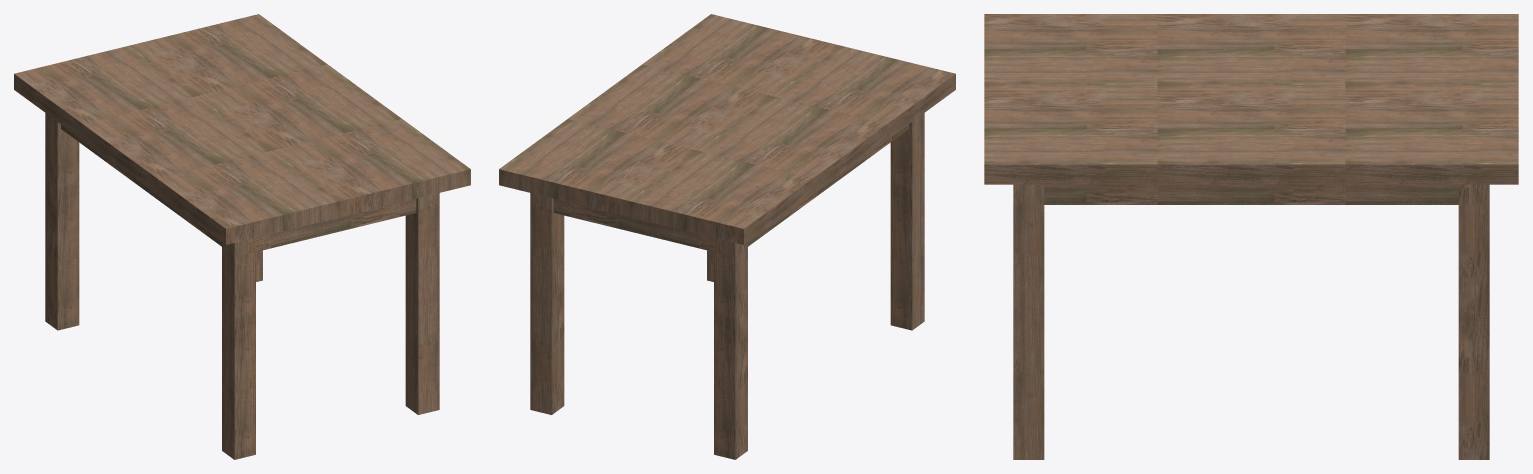
Rendered from Table3.fbx.
3 views of the same model, side by side, from view 1: azimuth 30°, elevation 25°; view 2: azimuth 150°, elevation 25°; view 3: azimuth 270°, elevation 25° (orthographic). The views are drawn at different scales.
Parts seen in each view (by area): view 1: Empty_Mesh; view 2: Empty_Mesh; view 3: Empty_Mesh.
Part boxes in pixels (x1,y1,x2,y2): Empty_Mesh: (14,14,470,459); Empty_Mesh: (499,14,955,459); Empty_Mesh: (984,14,1518,459).
Bounding box in the file's own units: 94.78 × 90.33 × 142.
